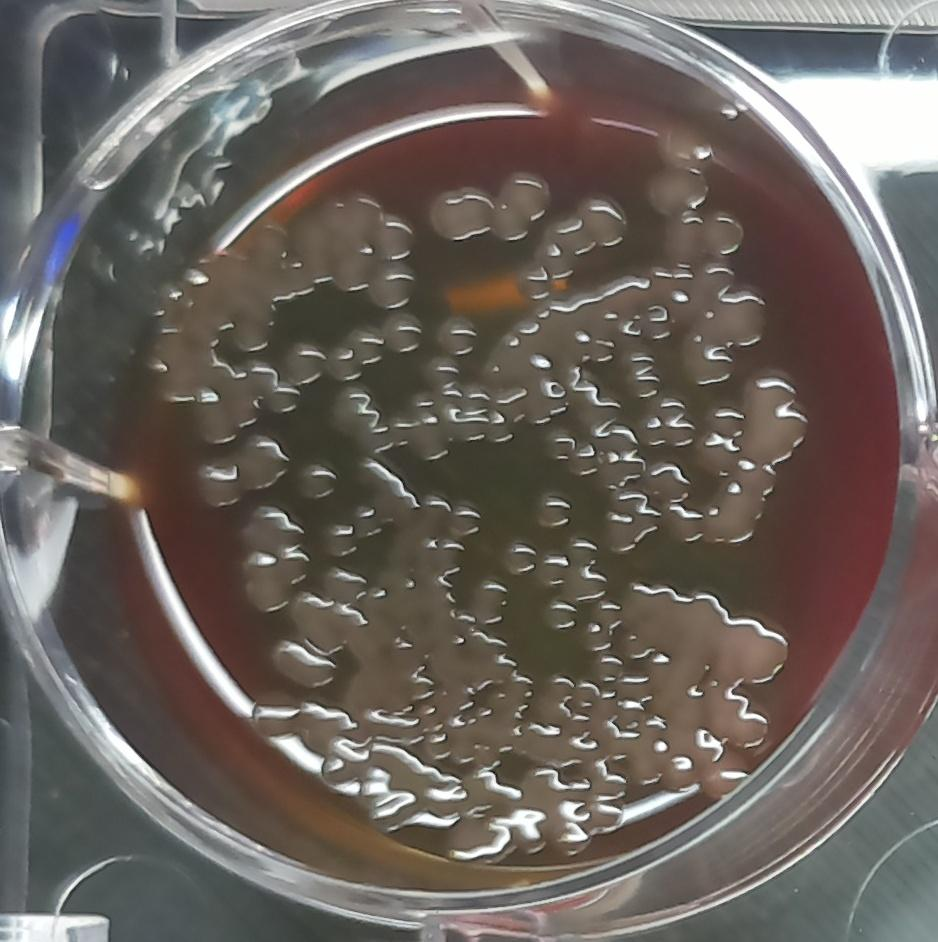vangil: (698, 360, 817, 546)
